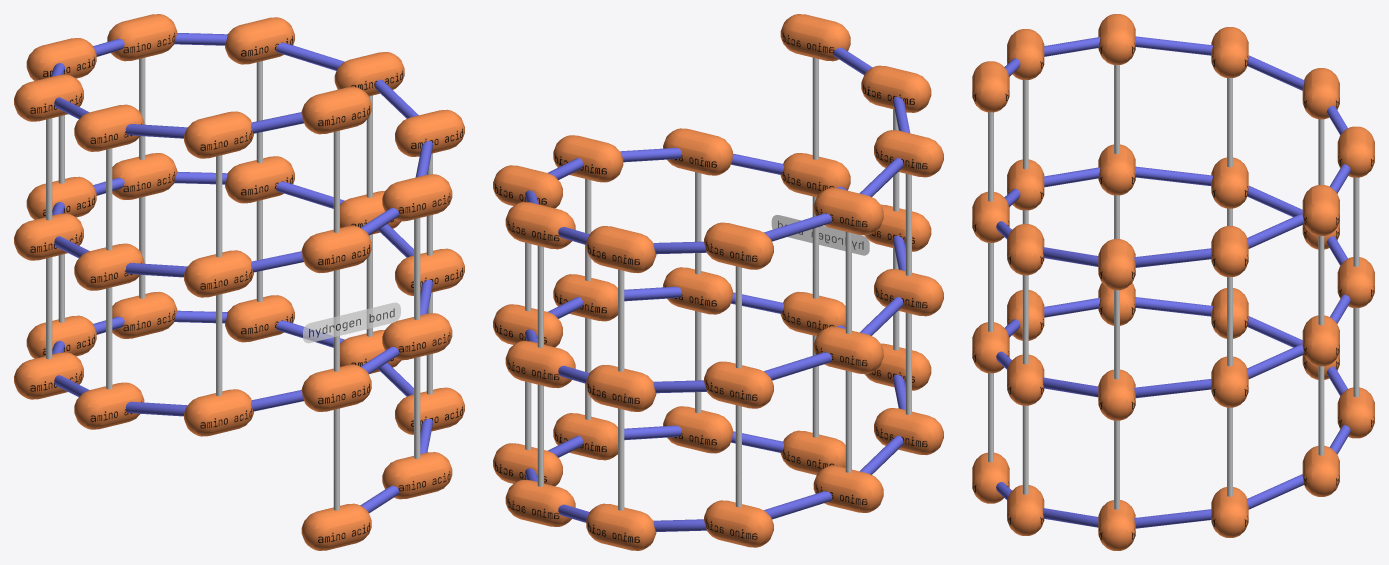
The model's file is chapter-1-section-3-secondary-structure.glb.
3 views of the same model, side by side, from view 1: azimuth 30°, elevation 25°; view 2: azimuth 150°, elevation 25°; view 3: azimuth 270°, elevation 25° (orthographic). The views are drawn at different scales.
Parts seen in each view (by area): view 1: Plane.002, Plane.003, Plane.004, Plane.005; view 2: Plane.002, Plane.003, Plane.004, Plane.005; view 3: Plane.002, Plane.003, Plane.004.
Part boxes in pixels (x1,y1,x2,y2): Plane.002: (14, 14, 464, 550); Plane.003: (50, 33, 433, 513); Plane.004: (46, 57, 432, 510); Plane.005: (303, 302, 400, 343); Plane.002: (493, 14, 943, 550); Plane.003: (525, 47, 910, 531); Plane.004: (525, 57, 911, 510); Plane.005: (771, 215, 869, 255); Plane.002: (972, 14, 1374, 550); Plane.003: (996, 36, 1350, 528); Plane.004: (988, 65, 1359, 509).
Bounding box in the file's own units: 3.65 × 4.11 × 3.53.
Materials: 4 (2 with a texture image).
